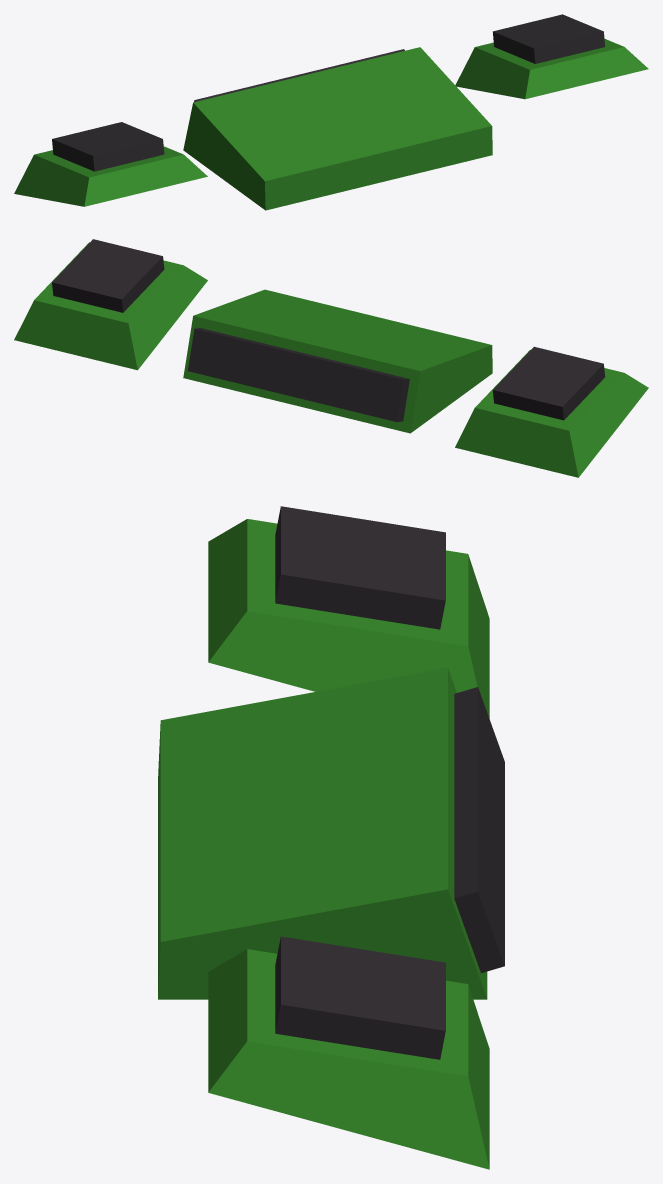
Rendered from Speed_Upgrade.glb.
3 views of the same model, one above another, from view 1: azimuth 30°, elevation 25°; view 2: azimuth 150°, elevation 25°; view 3: azimuth 270°, elevation 25° (orthographic). The views are drawn at different scales.
Parts seen in each view (by area): view 1: Speed Upgrade; view 2: Speed Upgrade; view 3: Speed Upgrade.
Part boxes in pixels (<box>): Speed Upgrade: <box>14,14,648,210</box>; Speed Upgrade: <box>14,239,648,477</box>; Speed Upgrade: <box>158,506,504,1169</box>.
Bounding box in the file's own units: 1.34 × 0.1572 × 0.356.
